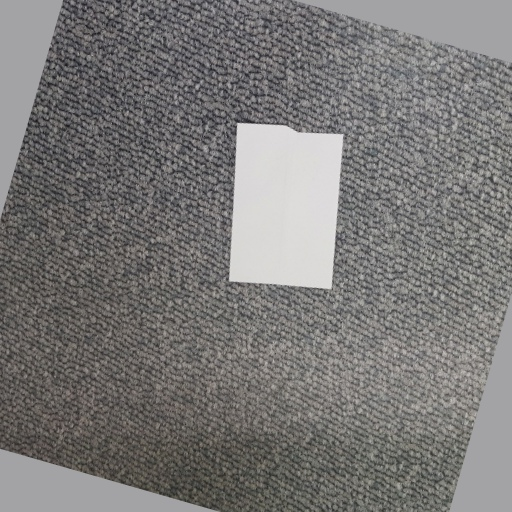Paper_2: (230, 114, 353, 311)
